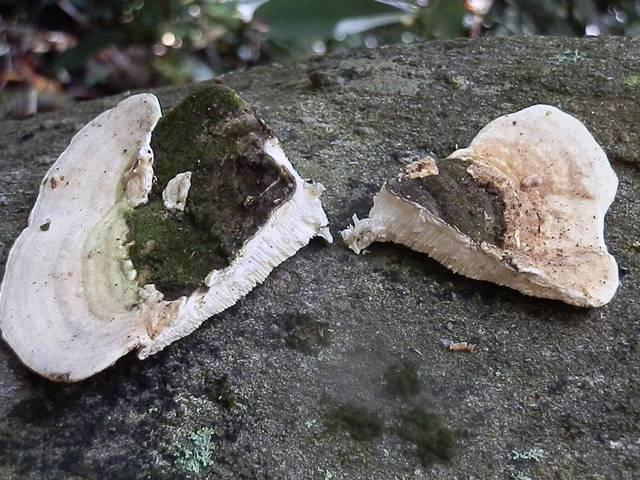poisonous_mushroom: (0, 79, 333, 384), (338, 102, 621, 309)
